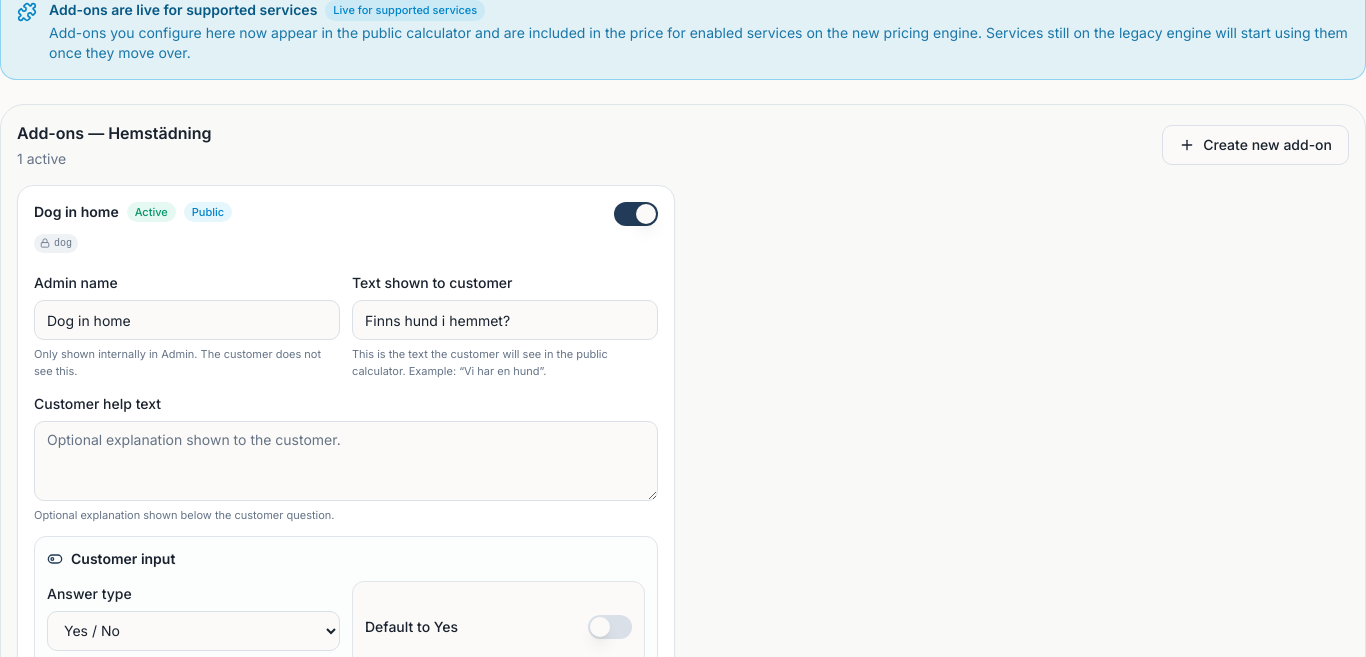
Test: CalculatorAddonsEditor › blocks a duplicate machine key for the same service
Click the button "Create new add-on" at (1256, 144), box [1162,124,1349,164]
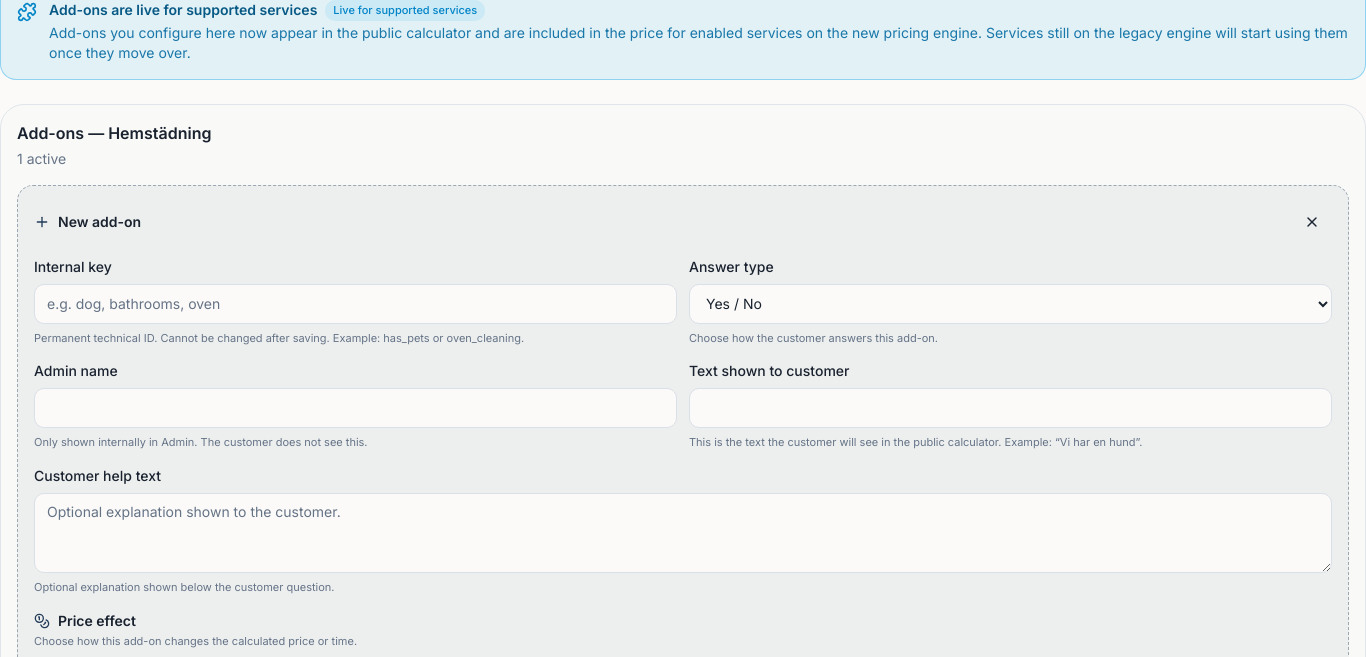
Type "dog" into the field labelled "Internal key" at (356, 304), box [34,284,677,324]
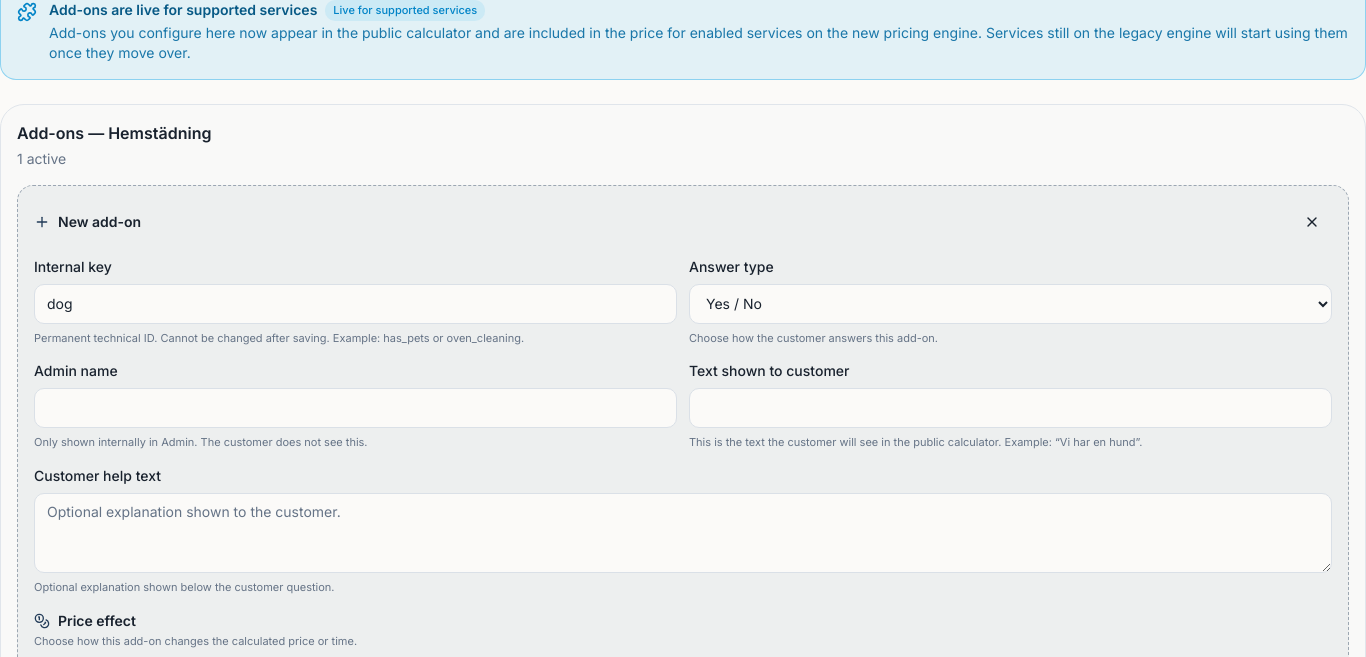
Type "Dog 2" into the field labelled "Admin name" at (356, 408), box [34,388,677,428]
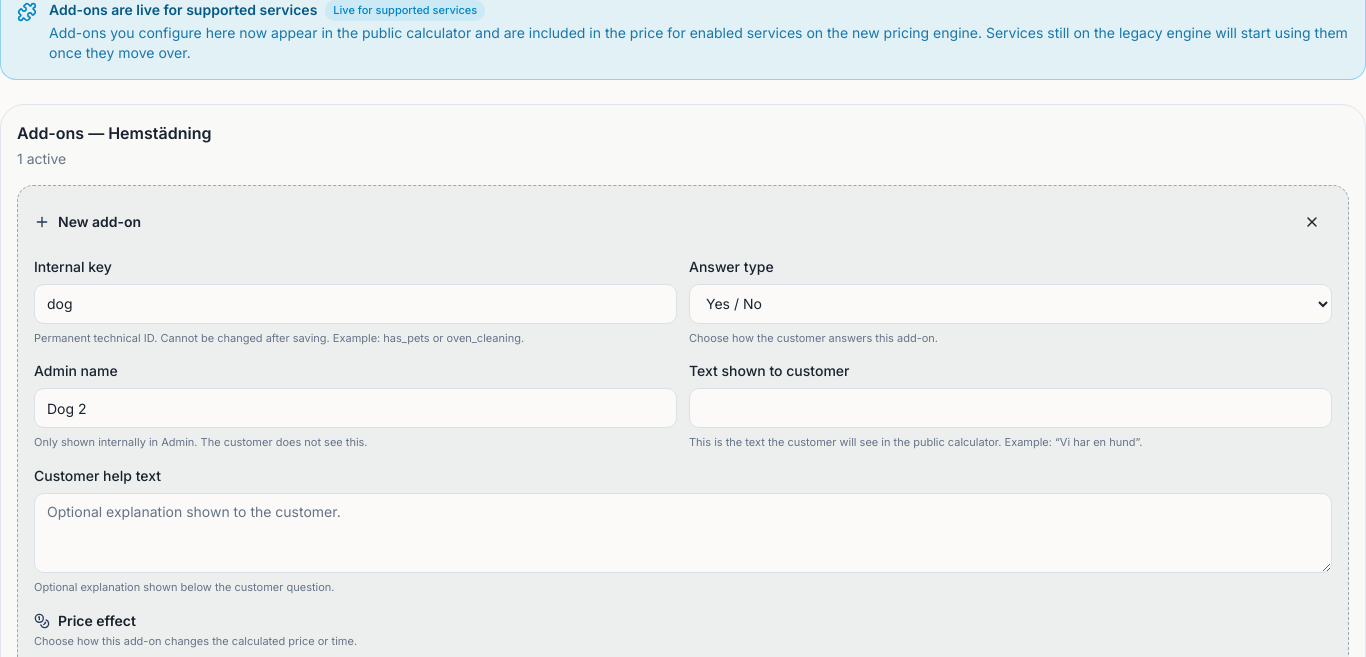
Type "Dog again?" into the field labelled "Text shown to customer" at (1010, 408), box [689,388,1332,428]
(page scrolled)
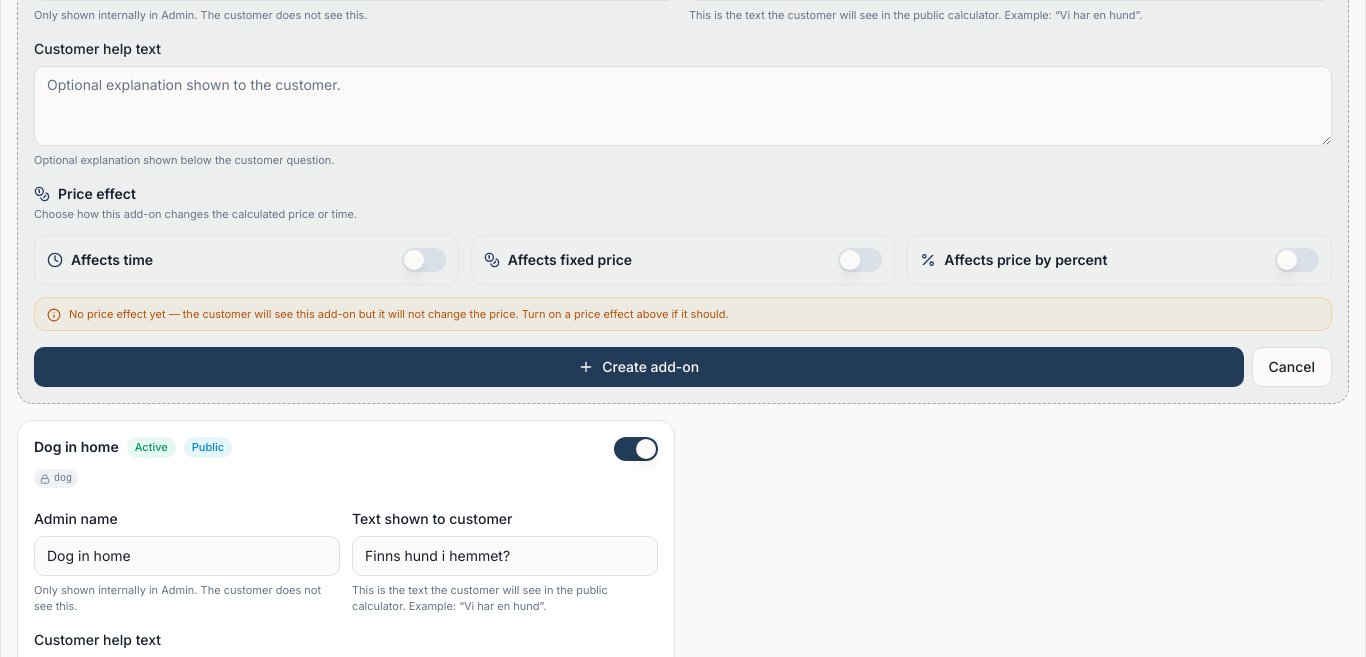
Click the button "Create add-on" at (639, 367), box [34,347,1244,387]
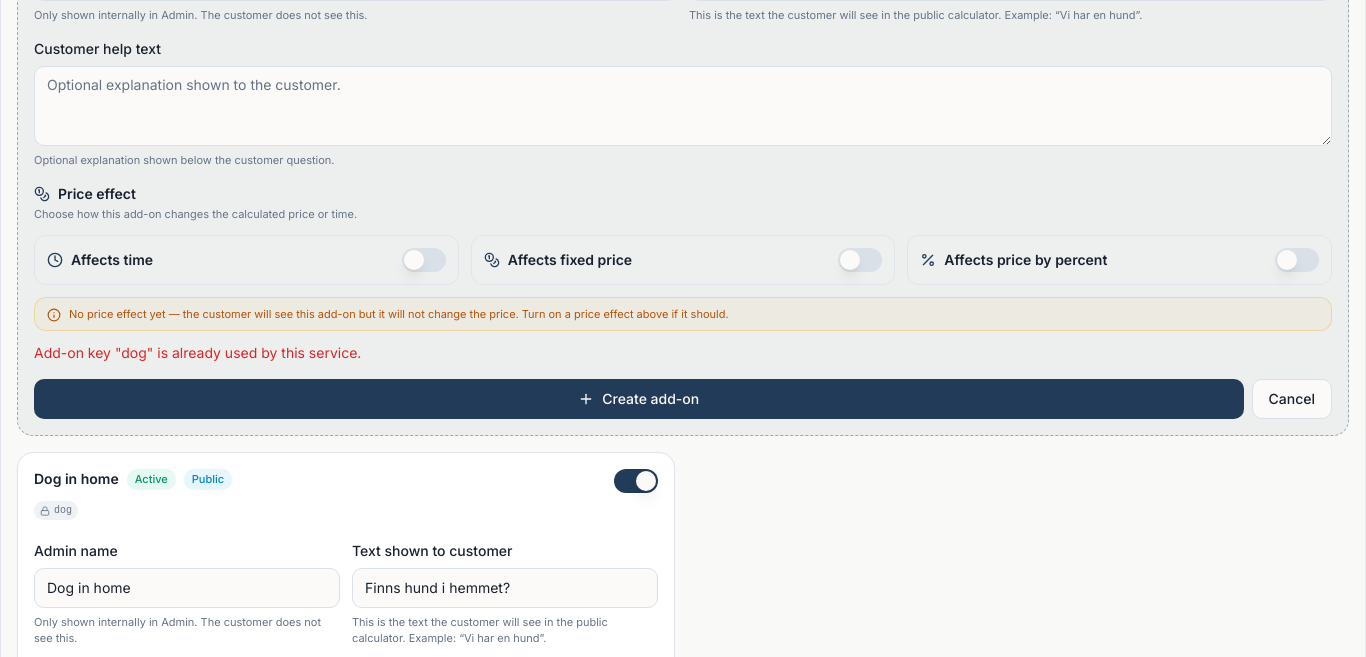
Check: the list item "Add-on key \"dog\" is already used by this service." is shown, box [34,344,361,361]
